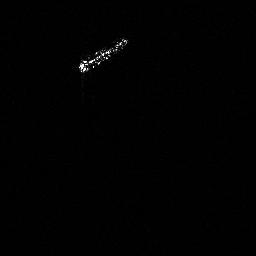ship: (79, 36, 129, 75)
